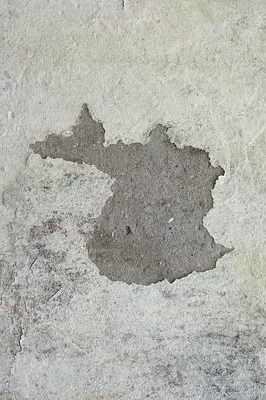Spalling: (27, 102, 234, 287)
